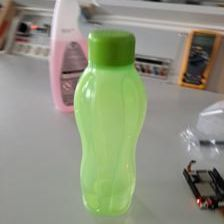bottle: (76, 26, 148, 218)
